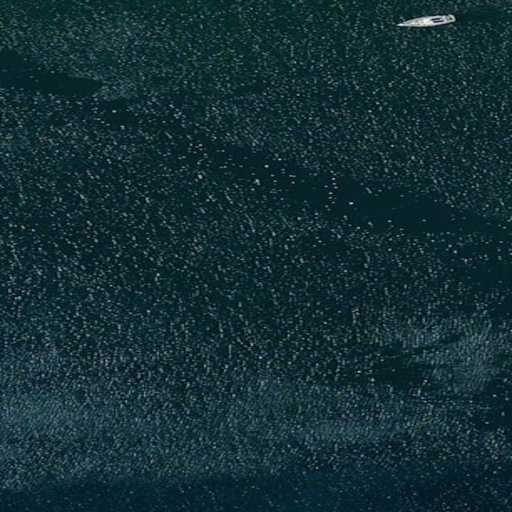ship: (394, 12, 457, 29)
